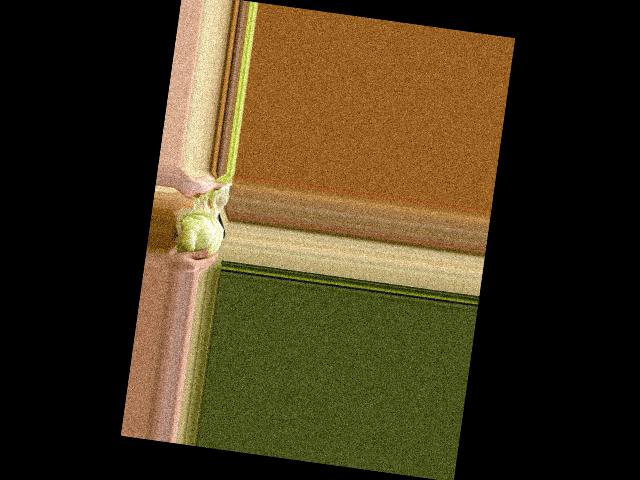lettuce: (168, 195, 229, 263)
